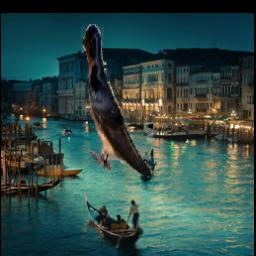Swallow: (80, 24, 152, 177)
